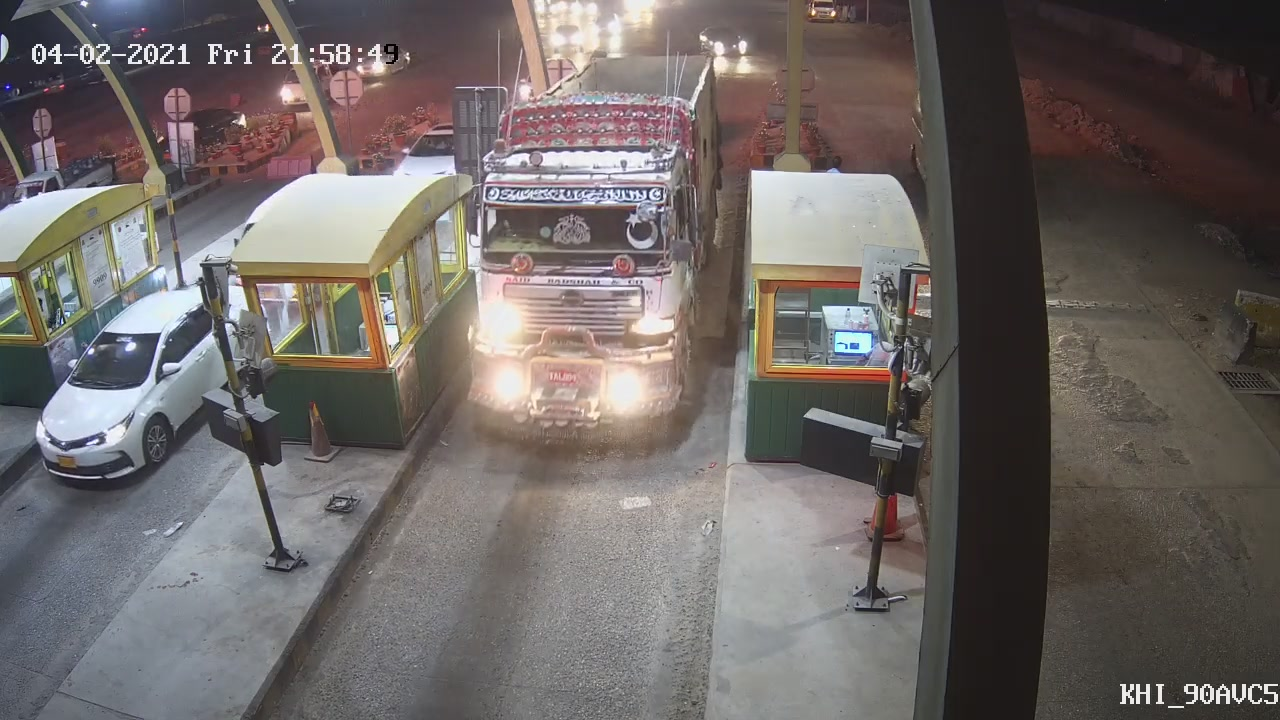F5: (461, 71, 720, 444)
